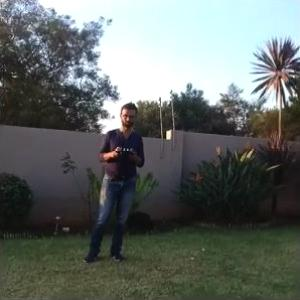follow: (77, 99, 147, 266)
